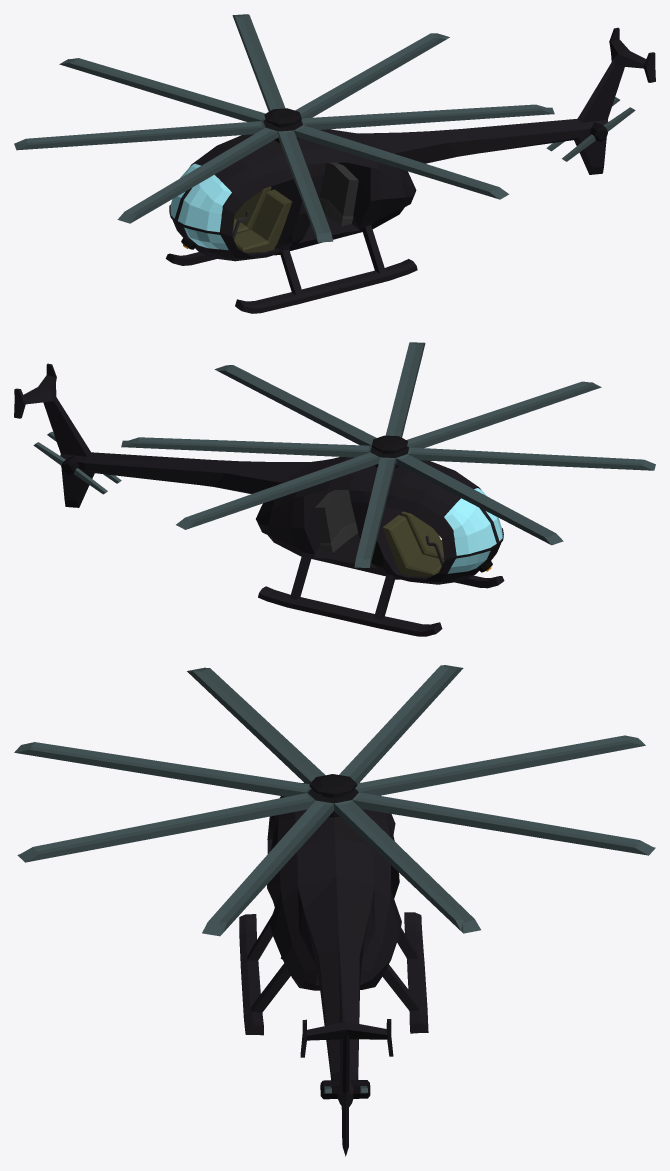
The model's file is helicopter.obj.
3 views of the same model, one above another, from view 1: azimuth 30°, elevation 25°; view 2: azimuth 150°, elevation 25°; view 3: azimuth 270°, elevation 25° (orthographic). The views are drawn at different scales.
Parts seen in each view (by area): view 1: Cube_Cube.003; view 2: Cube_Cube.003; view 3: Cube_Cube.003.
Part boxes in pixels (<box>): Cube_Cube.003: <box>14,14,655,313</box>; Cube_Cube.003: <box>14,342,655,636</box>; Cube_Cube.003: <box>14,665,655,1156</box>.
Size of the model in its own units: 4.75 by 1.23 by 3.64.
